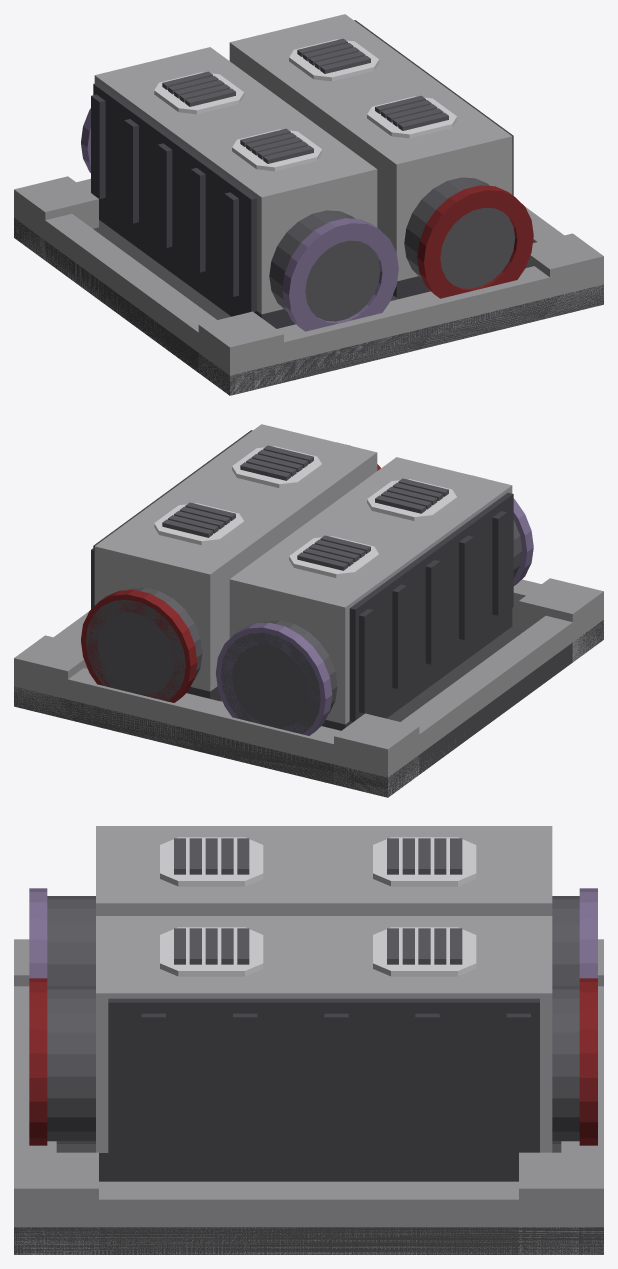
The model's file is vge_astropurifier.obj.
The picture shows the model from 3 angles, top to bottom: view 1: azimuth 30°, elevation 25°; view 2: azimuth 150°, elevation 25°; view 3: azimuth 270°, elevation 25°; orthographic projection. The views are drawn at different scales.
Parts seen in each view (by area): view 1: vge_astropurifier_37, vge_astropurifier_14, vge_astropurifier_1, vge_astropurifier_0, vge_astropurifier_27, vge_astropurifier_3, vge_astropurifier_11, vge_astropurifier_34, vge_astropurifier_35, vge_astropurifier_12, vge_astropurifier_5, vge_astropurifier_6 (+14 smaller); view 2: vge_astropurifier_37, vge_astropurifier_14, vge_astropurifier_2, vge_astropurifier_0, vge_astropurifier_27, vge_astropurifier_11, vge_astropurifier_34, vge_astropurifier_3, vge_astropurifier_6, vge_astropurifier_13, vge_astropurifier_36, vge_astropurifier_5 (+13 smaller); view 3: vge_astropurifier_50, vge_astropurifier_37, vge_astropurifier_14, vge_astropurifier_4, vge_astropurifier_0, vge_astropurifier_34, vge_astropurifier_33, vge_astropurifier_11, vge_astropurifier_8, vge_astropurifier_7, vge_astropurifier_1, vge_astropurifier_53 (+14 smaller).
Boxes of the visible parts, left/top/right/bottom form: vge_astropurifier_37: left=229, top=14, right=512, bottom=281; vge_astropurifier_14: left=94, top=47, right=377, bottom=314; vge_astropurifier_1: left=214, top=264, right=603, bottom=395; vge_astropurifier_0: left=14, top=218, right=603, bottom=395; vge_astropurifier_27: left=93, top=82, right=256, bottom=311; vge_astropurifier_3: left=29, top=209, right=216, bottom=381; vge_astropurifier_11: left=269, top=210, right=380, bottom=321; vge_astropurifier_34: left=404, top=177, right=514, bottom=288; vge_astropurifier_35: left=417, top=185, right=533, bottom=298; vge_astropurifier_12: left=282, top=218, right=398, bottom=331; vge_astropurifier_5: left=198, top=311, right=283, bottom=394; vge_astropurifier_6: left=14, top=176, right=98, bottom=260; vge_astropurifier_37: left=94, top=424, right=377, bottom=691; vge_astropurifier_14: left=229, top=457, right=512, bottom=724; vge_astropurifier_2: left=14, top=666, right=403, bottom=796; vge_astropurifier_0: left=14, top=612, right=603, bottom=797; vge_astropurifier_27: left=349, top=492, right=513, bottom=721; vge_astropurifier_11: left=221, top=520, right=522, bottom=734; vge_astropurifier_34: left=85, top=587, right=202, bottom=701; vge_astropurifier_3: left=401, top=615, right=572, bottom=785; vge_astropurifier_6: left=334, top=713, right=419, bottom=796; vge_astropurifier_13: left=216, top=622, right=332, bottom=735; vge_astropurifier_36: left=81, top=589, right=197, bottom=702; vge_astropurifier_5: left=519, top=578, right=603, bottom=662; vge_astropurifier_50: left=108, top=998, right=539, bottom=1156; vge_astropurifier_37: left=96, top=916, right=552, bottom=1152; vge_astropurifier_14: left=96, top=826, right=552, bottom=915; vge_astropurifier_4: left=56, top=1181, right=561, bottom=1254; vge_astropurifier_0: left=14, top=1144, right=603, bottom=1254; vge_astropurifier_34: left=47, top=986, right=579, bottom=1143; vge_astropurifier_33: left=99, top=1153, right=518, bottom=1181; vge_astropurifier_11: left=47, top=896, right=579, bottom=985; vge_astropurifier_8: left=519, top=1152, right=603, bottom=1254; vge_astropurifier_7: left=14, top=1152, right=98, bottom=1254; vge_astropurifier_1: left=14, top=986, right=56, bottom=1254; vge_astropurifier_53: left=324, top=1013, right=348, bottom=1149.
Bounding box in the file's own units: 1.94 × 0.84 × 1.94.
